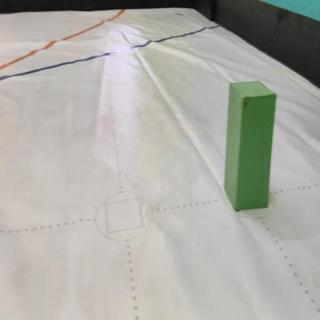greenbox: (223, 79, 278, 213)
